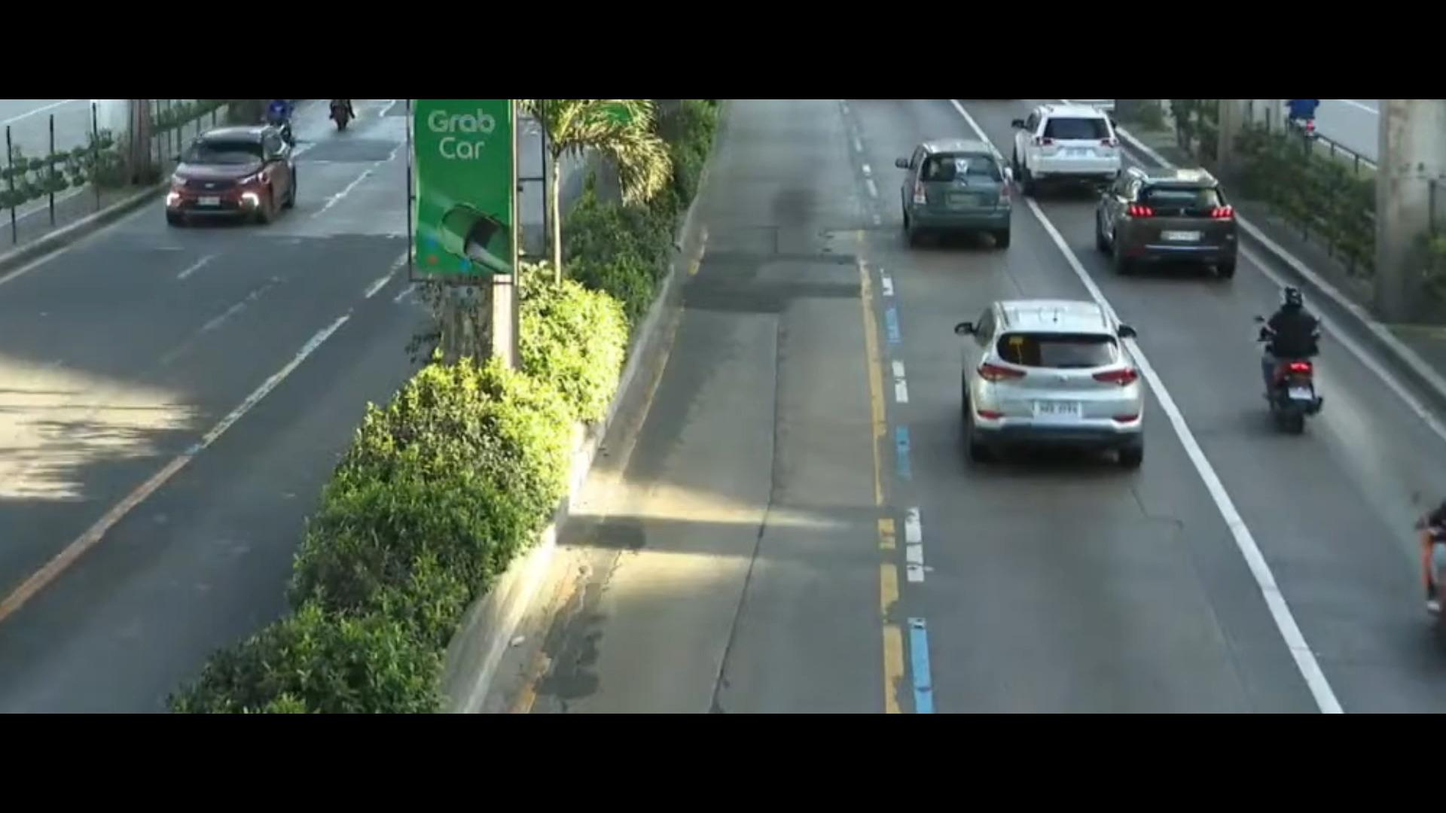Motorcycle: (1246, 275, 1341, 440)
SUV: (953, 277, 1155, 482), (1082, 155, 1251, 279), (144, 123, 307, 241), (879, 137, 1028, 250), (1021, 104, 1126, 193)
